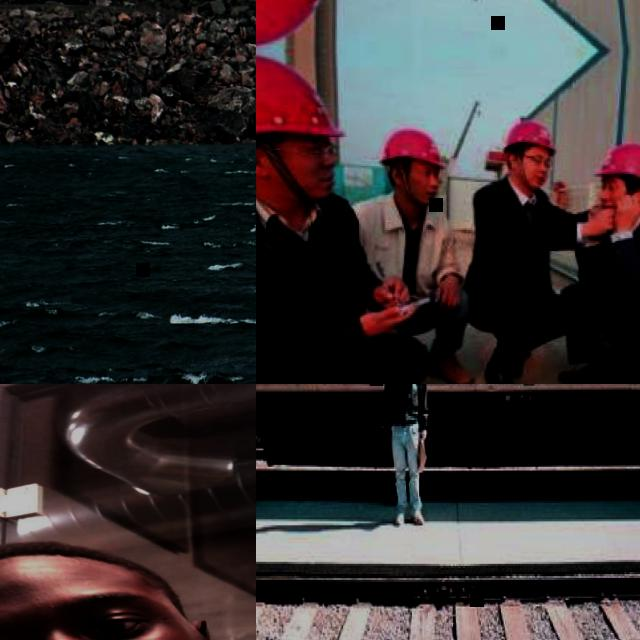Hardhat: (256, 53, 348, 140), (376, 128, 451, 174), (499, 120, 560, 158), (593, 144, 640, 186)
NO-Hardhat: (0, 538, 169, 610)
NO-Mask: (267, 158, 338, 196), (401, 180, 437, 200), (518, 166, 547, 188), (602, 193, 631, 213)
NO-Safety Vest: (256, 198, 361, 352), (349, 201, 456, 291), (476, 190, 561, 282), (593, 216, 640, 325), (387, 384, 420, 426)
Person: (256, 52, 427, 384), (462, 119, 615, 384), (346, 124, 473, 380), (0, 537, 256, 640), (571, 142, 640, 384), (382, 384, 426, 523), (256, 0, 347, 49), (256, 0, 348, 44)
